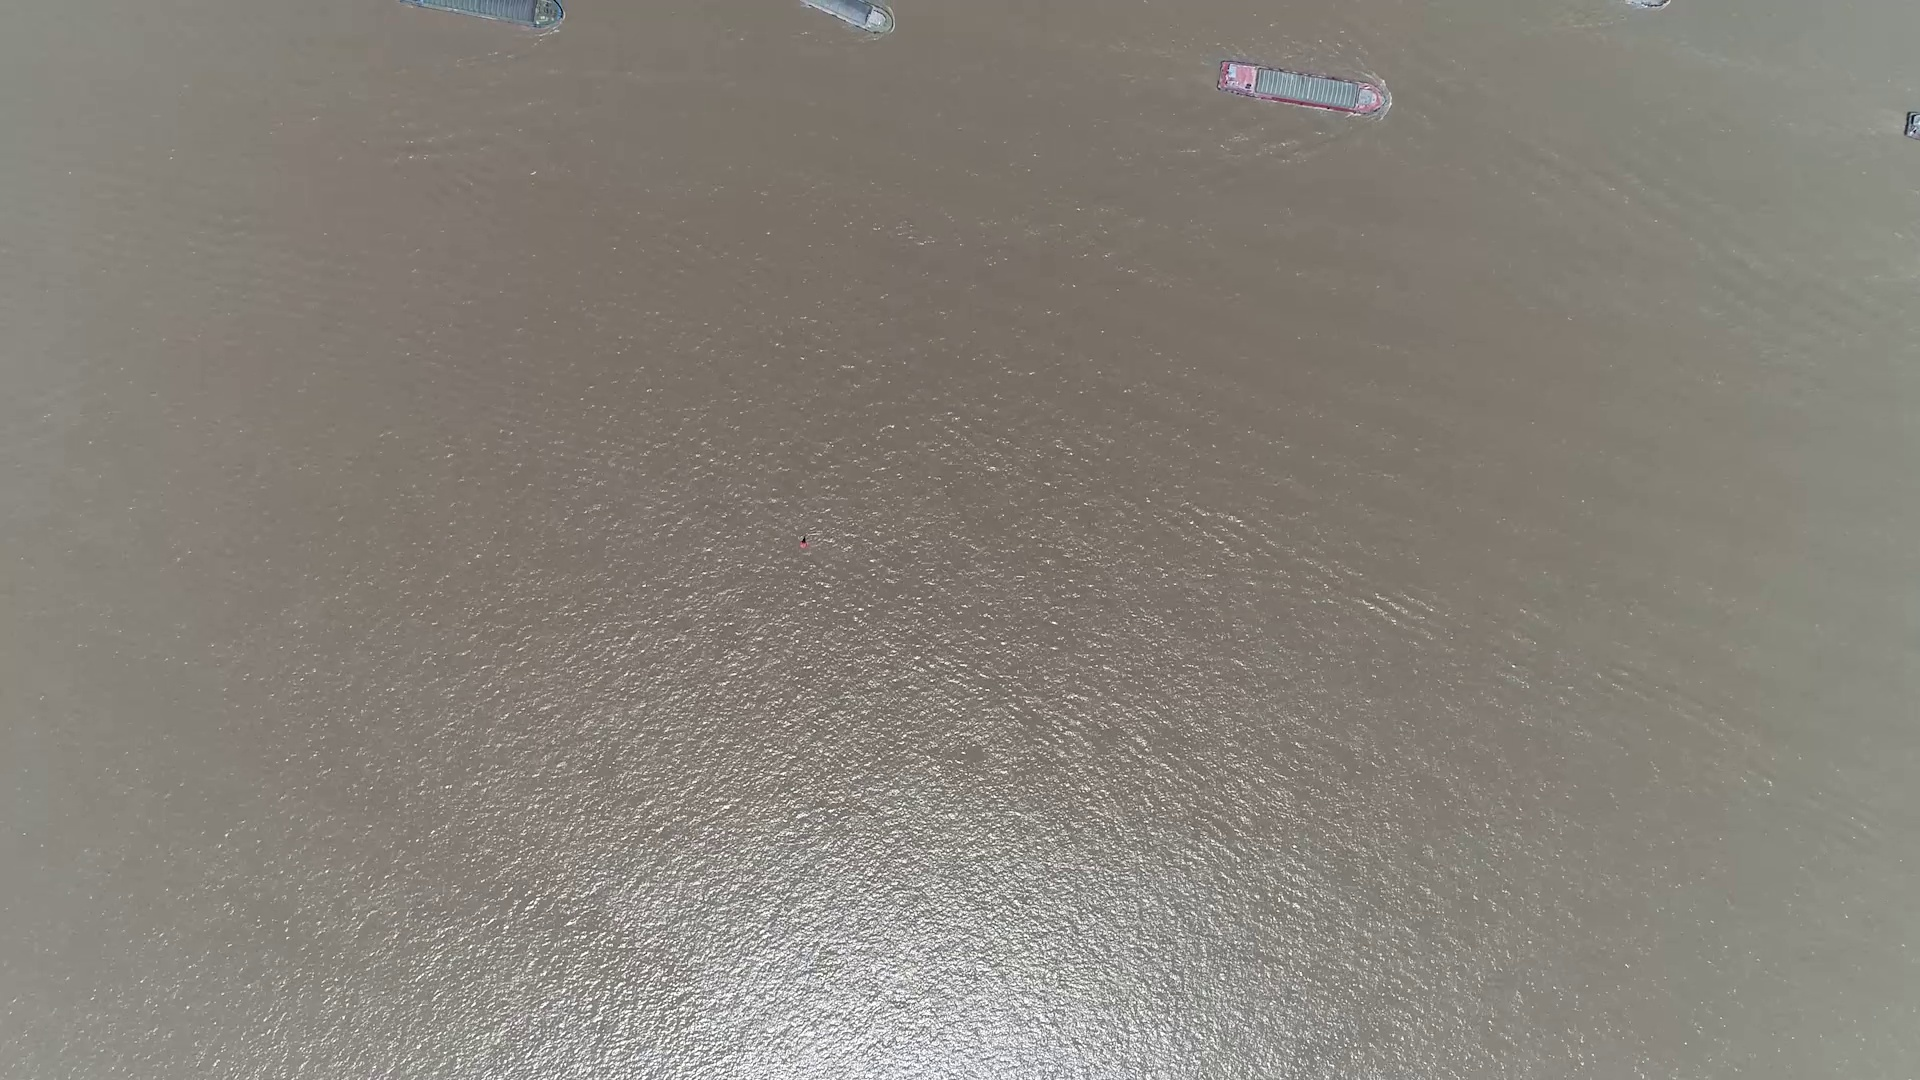ship: (1213, 61, 1387, 115)
